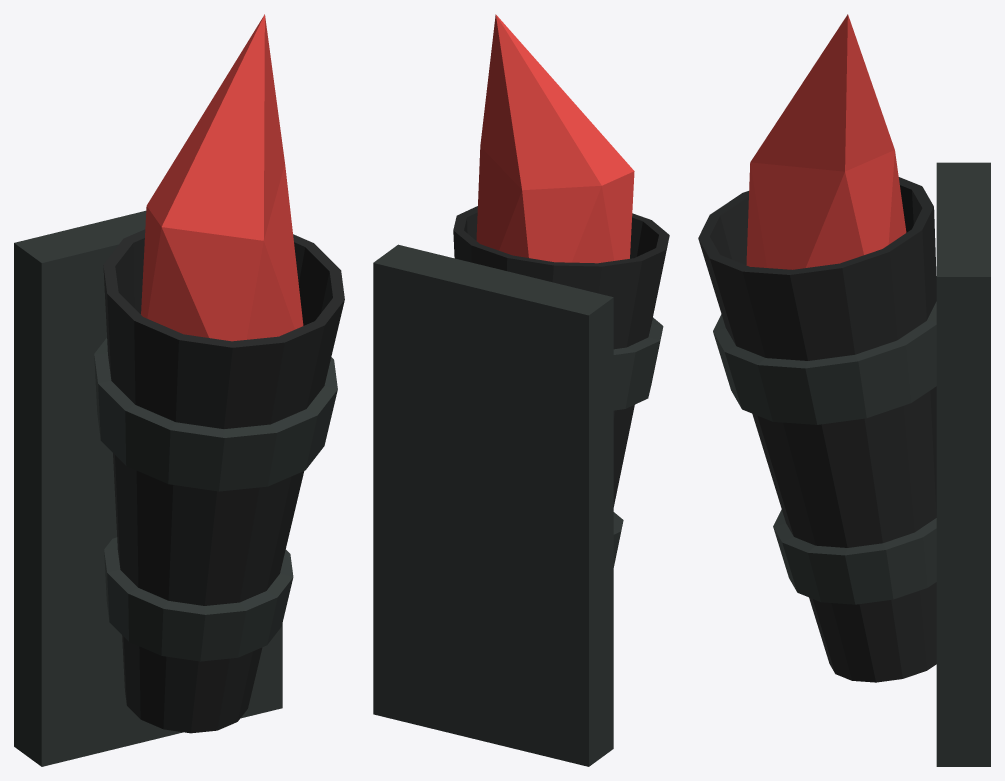
Rendered from Torch_1_Black.fbx.
3 views of the same model, side by side, from view 1: azimuth 30°, elevation 25°; view 2: azimuth 150°, elevation 25°; view 3: azimuth 270°, elevation 25° (orthographic). The views are drawn at different scales.
Parts seen in each view (by area): view 1: Torch_1_Black_Part_1, Torch_1_Black_Part_2, Torch_1_Black_Part_3; view 2: Torch_1_Black_Part_1, Torch_1_Black_Part_3, Torch_1_Black_Part_2; view 3: Torch_1_Black_Part_1, Torch_1_Black_Part_2, Torch_1_Black_Part_3.
Boxes of the visible parts, x1=… form: Torch_1_Black_Part_1: x1=14, y1=210, x2=337, y2=766; Torch_1_Black_Part_2: x1=103, y1=229, x2=344, y2=733; Torch_1_Black_Part_3: x1=141, y1=14, x2=303, y2=341; Torch_1_Black_Part_1: x1=373, y1=244, x2=663, y2=766; Torch_1_Black_Part_3: x1=476, y1=14, x2=634, y2=263; Torch_1_Black_Part_2: x1=453, y1=206, x2=669, y2=506; Torch_1_Black_Part_1: x1=713, y1=162, x2=990, y2=766; Torch_1_Black_Part_2: x1=698, y1=177, x2=936, y2=682; Torch_1_Black_Part_3: x1=746, y1=14, x2=906, y2=269.
Size of the model in its own units: 20 by 59.01 by 21.65.
